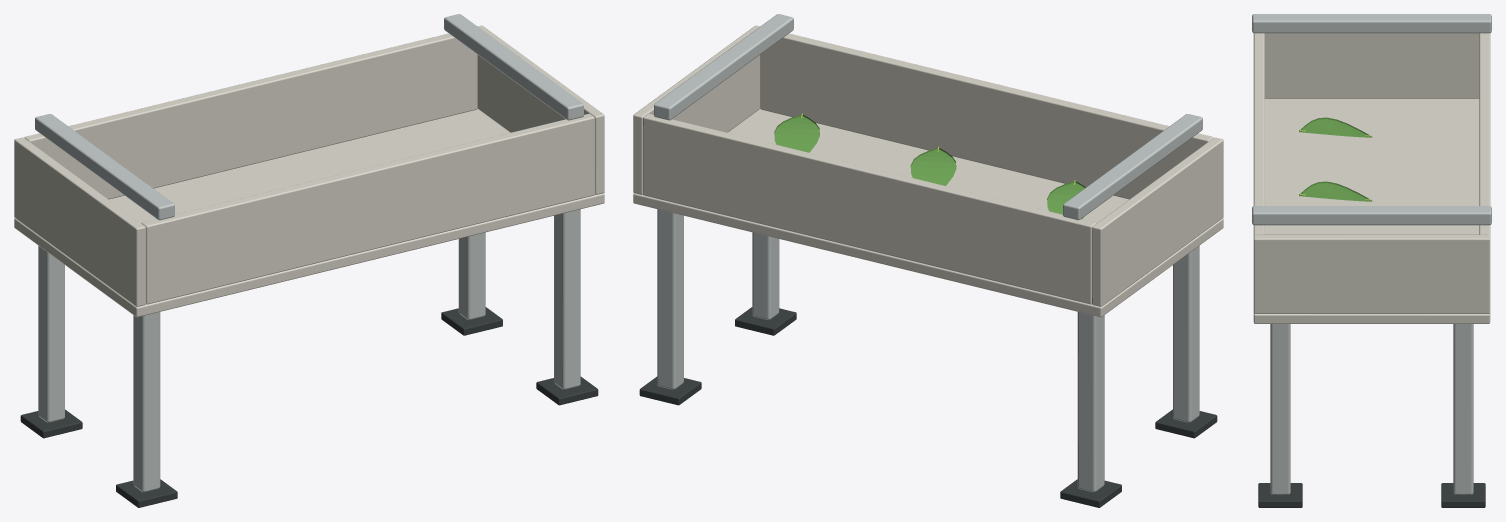
The model's file is tea-garden-and-processing-house-tea-garden-and-process-d25fa7be__30763.glb.
The picture shows the model from 3 angles, left to right: view 1: azimuth 30°, elevation 25°; view 2: azimuth 150°, elevation 25°; view 3: azimuth 270°, elevation 25°; orthographic projection. The views are drawn at different scales.
Parts seen in each view (by area): view 1: tea-garden-and-processing-house-receiving-leaf-trough; view 2: tea-garden-and-processing-house-receiving-leaf-trough; view 3: tea-garden-and-processing-house-receiving-leaf-trough.
Part boxes in pixels (x1,y1,x2,y2): tea-garden-and-processing-house-receiving-leaf-trough: (14,14,604,507); tea-garden-and-processing-house-receiving-leaf-trough: (633,14,1223,507); tea-garden-and-processing-house-receiving-leaf-trough: (1252,14,1491,507).
Size of the model in its own units: 1.65 by 1.01 by 0.7599.
